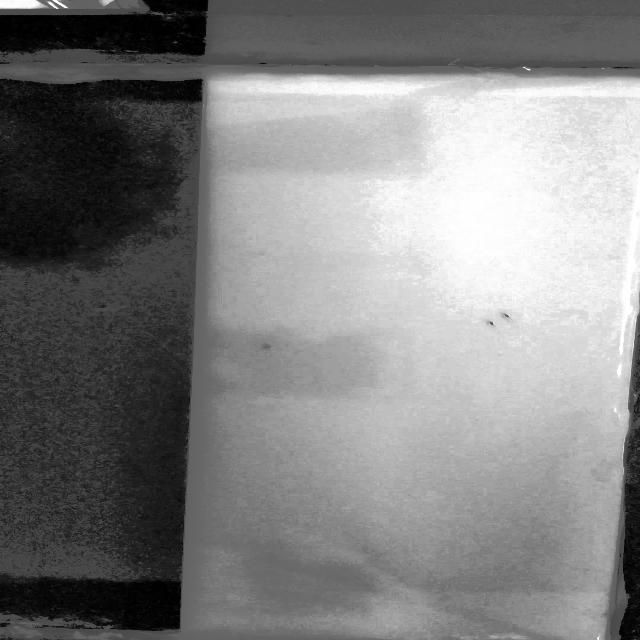shrimp: (474, 312, 505, 330), (263, 336, 286, 354), (503, 308, 521, 324)
